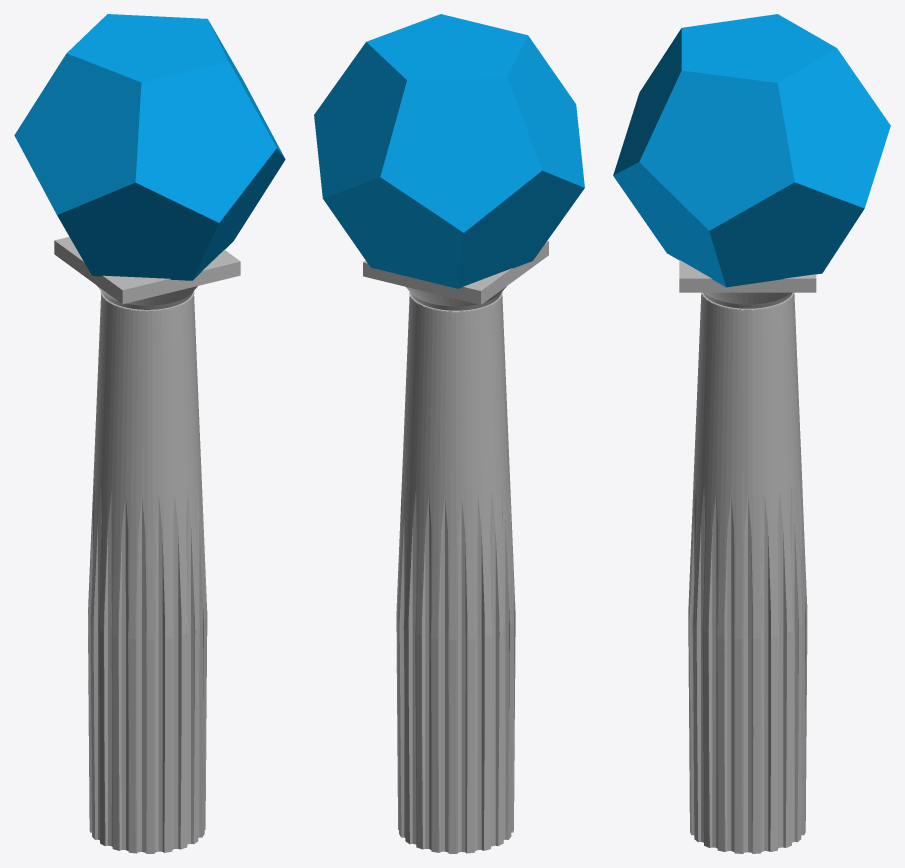
The model's file is geomag1.glb.
The picture shows the model from 3 angles, left to right: view 1: azimuth 30°, elevation 25°; view 2: azimuth 150°, elevation 25°; view 3: azimuth 270°, elevation 25°; orthographic projection.
Visible parts, largest first — view 1: node_id3.002, node_id3; view 2: node_id3.002, node_id3; view 3: node_id3.002, node_id3.
Part boxes in pixels (x1,y1,x2,y2): node_id3.002: (54,236,240,853); node_id3: (14,14,285,280); node_id3.002: (363,241,548,853); node_id3: (314,14,584,288); node_id3.002: (679,260,816,853); node_id3: (613,14,890,287).
Size of the model in its own units: 2.05 by 6.69 by 2.15.
Materials: 2 (2 with a texture image).
